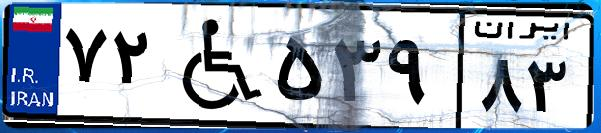2: (110, 28, 158, 98)
3: (330, 28, 385, 110), (525, 38, 570, 115)
5: (270, 28, 330, 110)
7: (57, 26, 110, 100)
8: (475, 38, 525, 113)
9: (385, 28, 445, 110)
ژ (معلولین و جانبازان): (158, 12, 270, 120)
